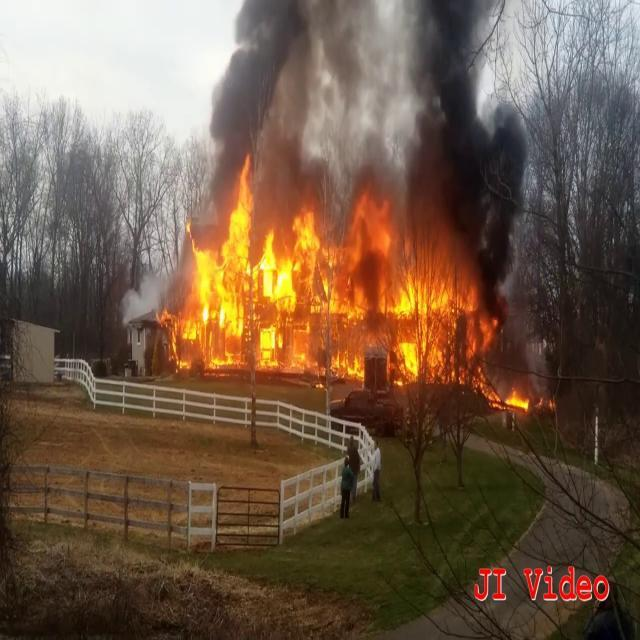Fire: (162, 172, 494, 386), (488, 384, 544, 416)
Smoke: (374, 0, 530, 290), (191, 0, 368, 223)
